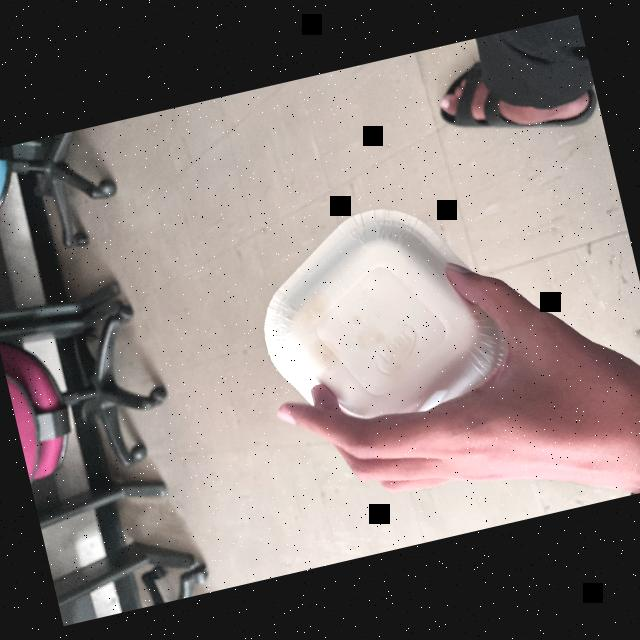cardboard_bowl: (229, 173, 532, 456)
